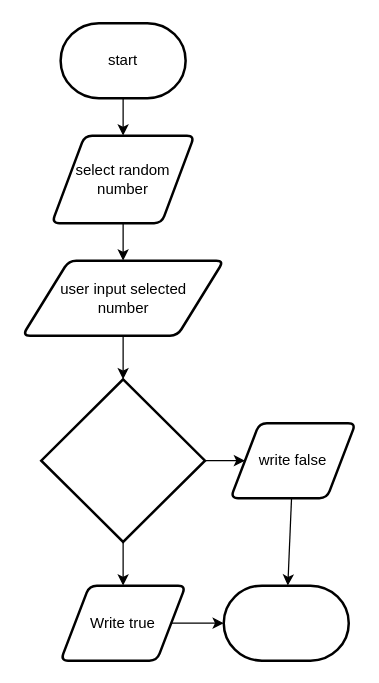
Image size: 379x683. Some labels were removed from this diagram. The shapes that lost their labels are listed below. From the top down, each one's centre as x and y in pixels, then its label:
point 122,460: if number is == to randomised number
point 285,622: stop
